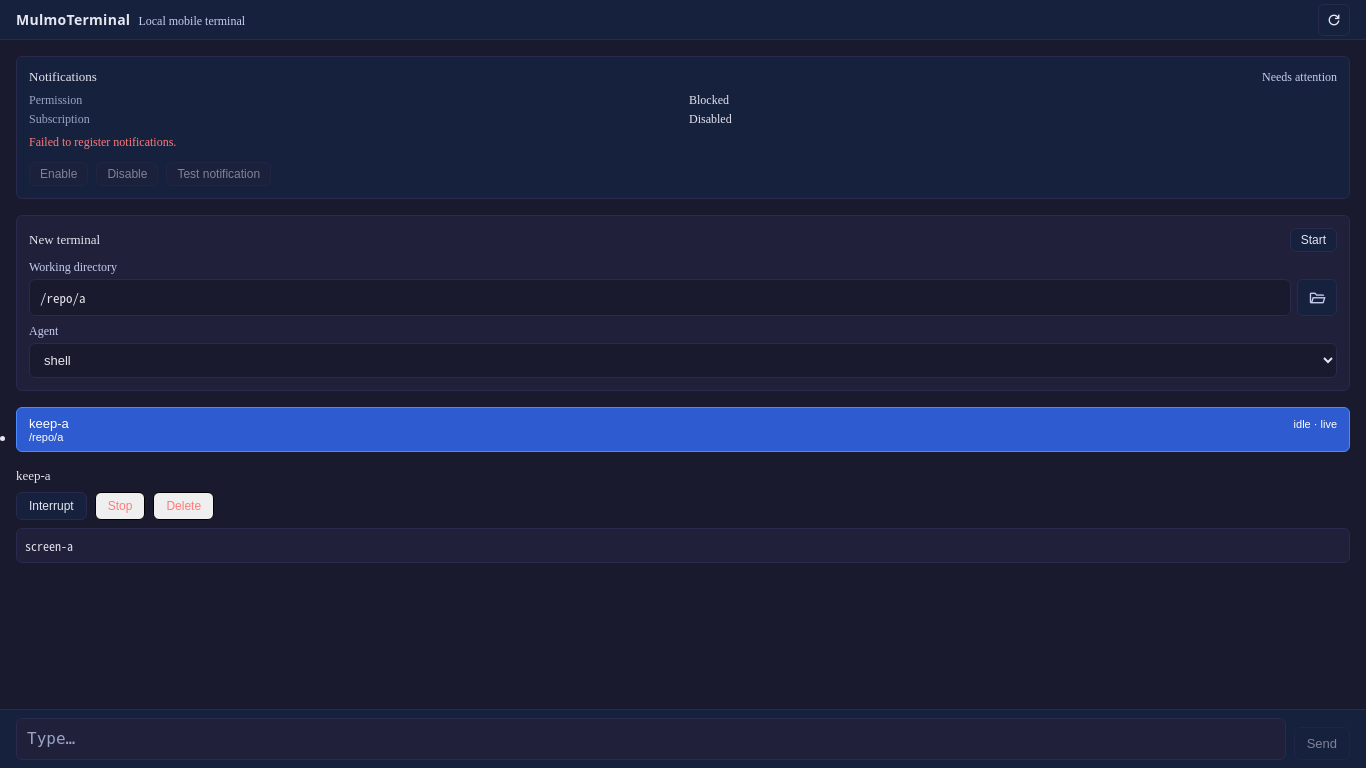
Test: MobileTerminalPage › session operations › does not stop on the first Stop click, and Cancel leaves the session unchanged
This screenshot has width=1366, height=768.
Click the button "Stop" at coordinates (120, 506), box x1=95 y1=492 x2=145 y2=520
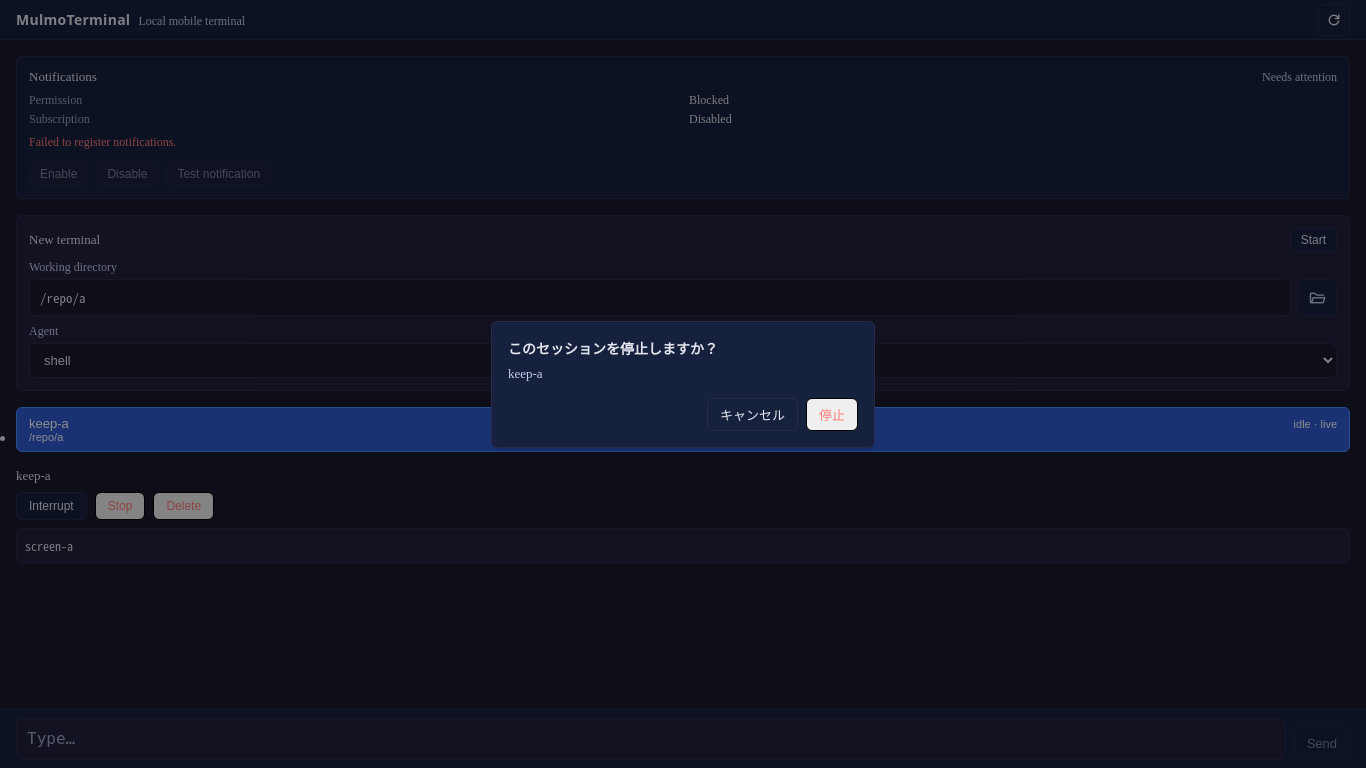
Expected: the text "keep-a" is shown, x1=29 y1=416 x2=69 y2=431
Result: the text "このセッションを停止しますか？" is shown at x1=508 y1=342 x2=718 y2=356
Click the button "キャンセル" at coordinates (752, 414), box x1=707 y1=398 x2=798 y2=430
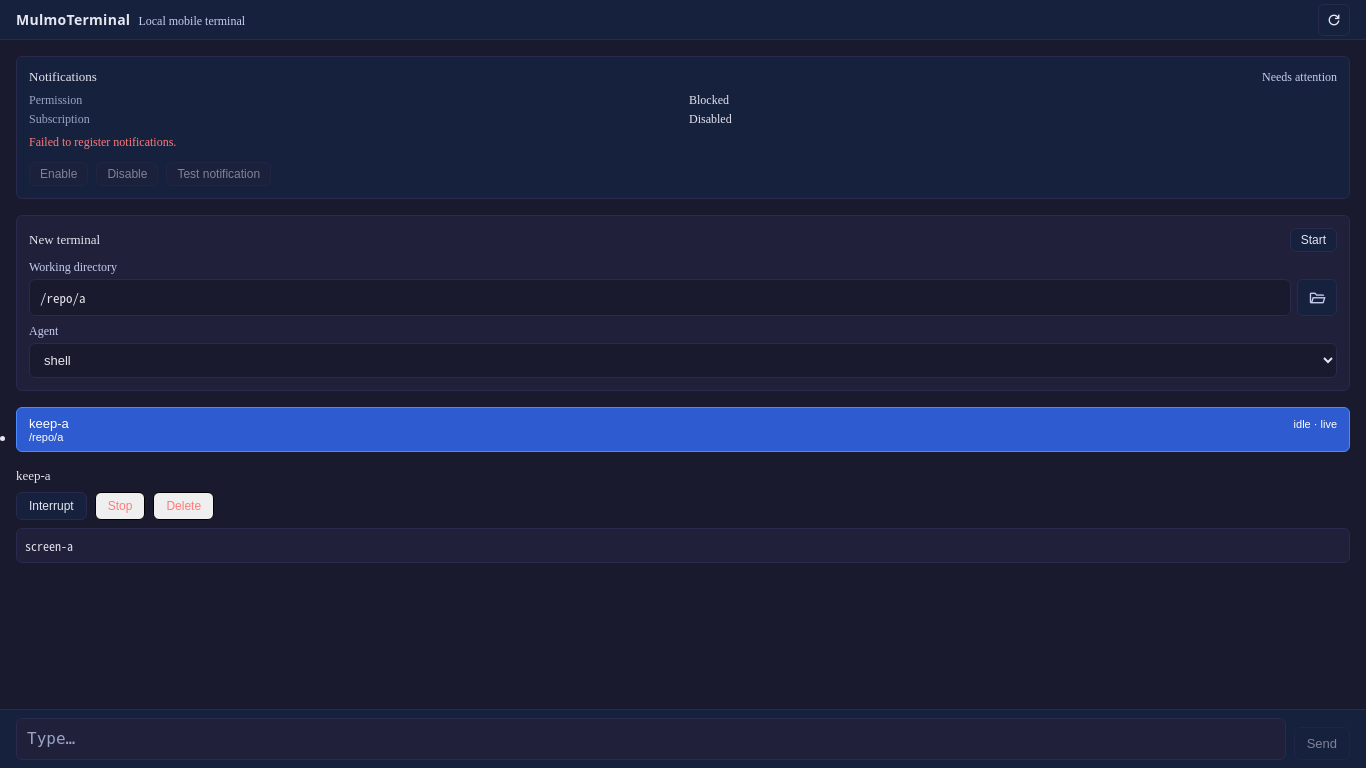
Expected: the button "keep-a idle · live /repo/a" is shown, x1=16 y1=407 x2=1350 y2=452
Result: the text "このセッションを停止しますか？" is gone
